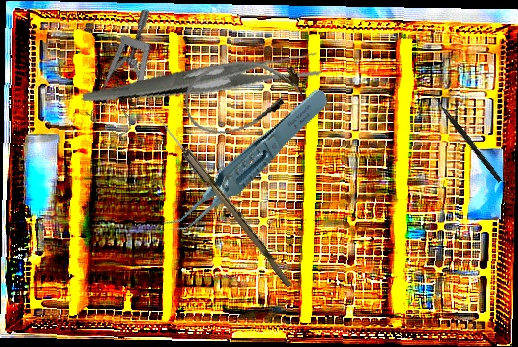Cannula: (179, 49, 307, 141)
Dressing Forceps: (82, 13, 325, 141)
Hook Surgical: (427, 91, 504, 183)
Speculum: (65, 7, 197, 144)
Surgical Spoon: (142, 101, 297, 288)
Tissue Forceps: (140, 86, 350, 238)
